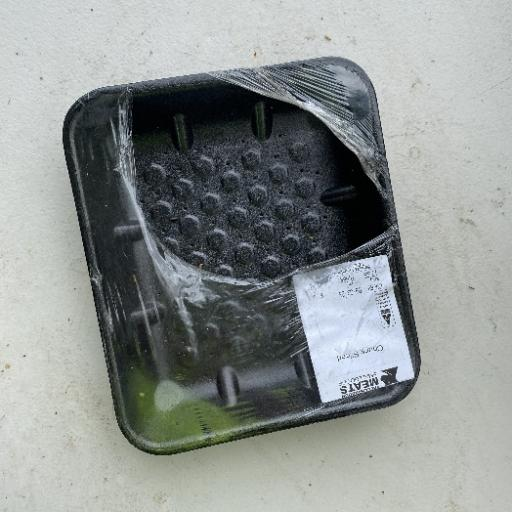Plastic: (61, 54, 423, 453)
